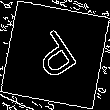P_SE: (25, 23, 85, 87)
